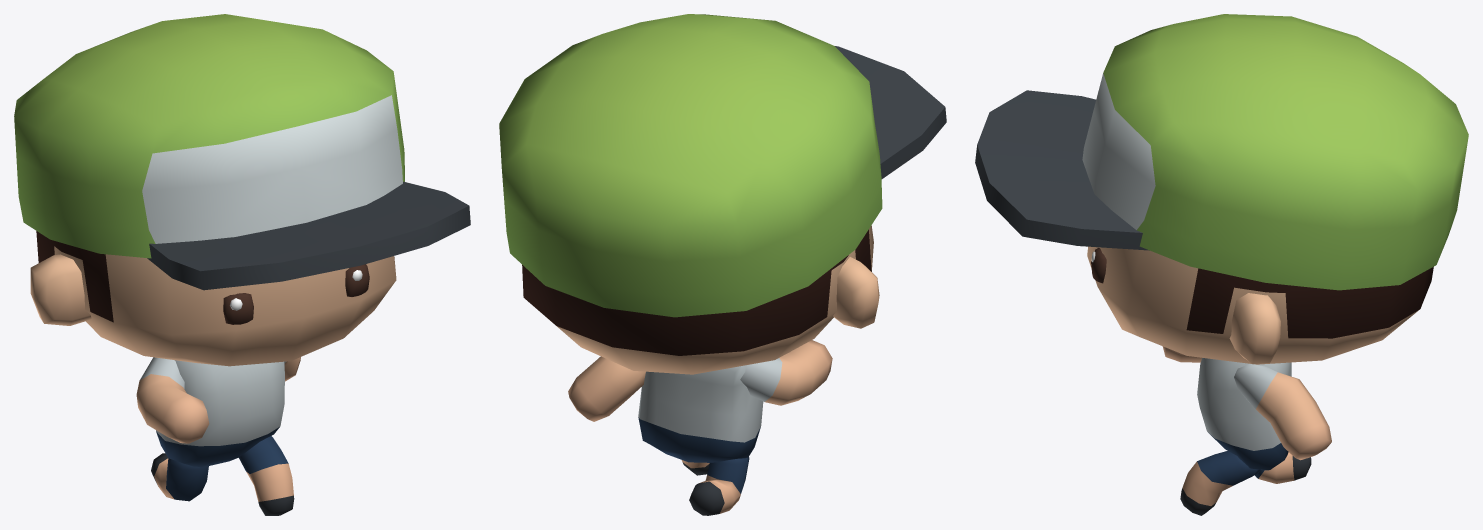
The model's file is run_0002.obj.
3 views of the same model, side by side, from view 1: azimuth 30°, elevation 25°; view 2: azimuth 150°, elevation 25°; view 3: azimuth 270°, elevation 25° (orthographic). The views are drawn at different scales.
Parts seen in each view (by area): view 1: Object_41, Object_42, Object_36, Object_44, Object_38; view 2: Object_41, Object_36, Object_44, Object_42; view 3: Object_41, Object_36, Object_42, Object_44.
Part boxes in pixels (x1,y1,x2,y2): Object_41: (14, 14, 404, 258); Object_42: (142, 95, 470, 290); Object_36: (30, 231, 396, 366); Object_44: (136, 357, 300, 515); Object_38: (223, 264, 369, 324); Object_41: (499, 14, 882, 317); Object_36: (522, 225, 879, 374); Object_44: (568, 340, 832, 515); Object_42: (835, 46, 946, 178); Object_41: (1103, 14, 1468, 290); Object_36: (1087, 246, 1433, 364); Object_42: (975, 73, 1155, 250); Object_44: (1162, 346, 1331, 515).
Bounding box in the file's own units: 0.9691 × 1.18 × 1.15.
